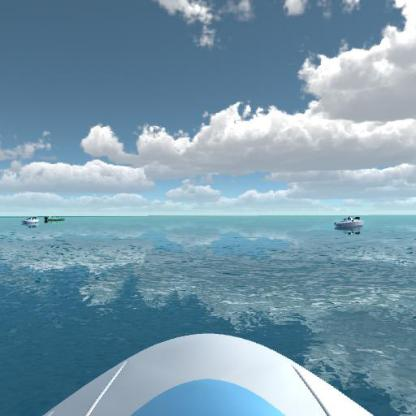usv0: (43, 214, 67, 226)
usv1: (331, 213, 369, 231), (19, 212, 42, 229)
